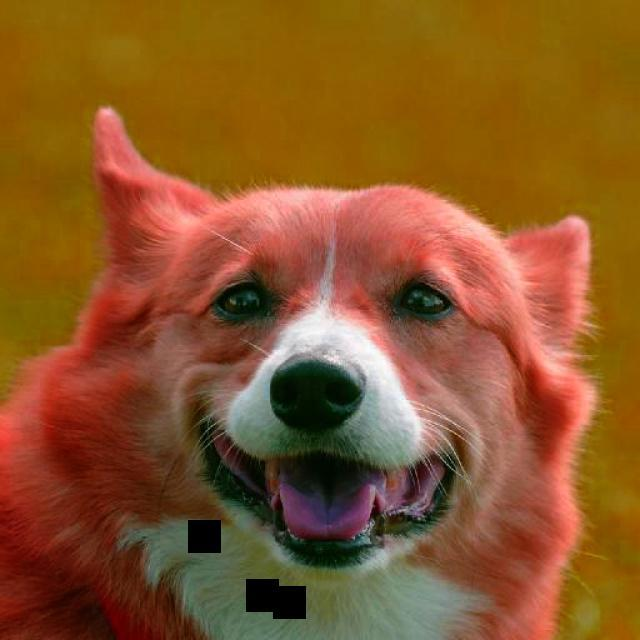adult_dog: (1, 110, 602, 640)
